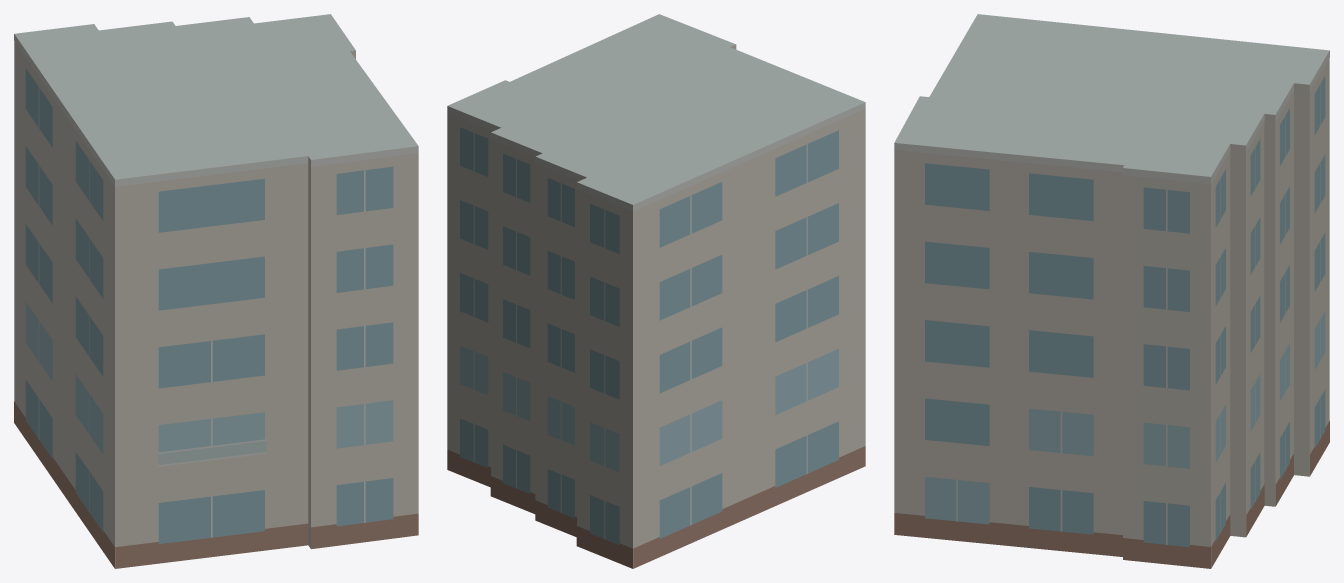
File: survey-upis-32672552.glb
3 renders of one model, left to right at view 1: azimuth 30°, elevation 25°; view 2: azimuth 150°, elevation 25°; view 3: azimuth 270°, elevation 25°, orthographic. The views are drawn at different scales.
Parts seen in each view (by area): view 1: survey-upis-32672552.tmp; view 2: survey-upis-32672552.tmp; view 3: survey-upis-32672552.tmp.
Boxes of the visible parts, bbox=[...] form: survey-upis-32672552.tmp: bbox=[14, 14, 418, 568]; survey-upis-32672552.tmp: bbox=[447, 14, 865, 568]; survey-upis-32672552.tmp: bbox=[894, 14, 1329, 568].
Bounding box in the file's own units: 11.96 × 13.4 × 13.51.
